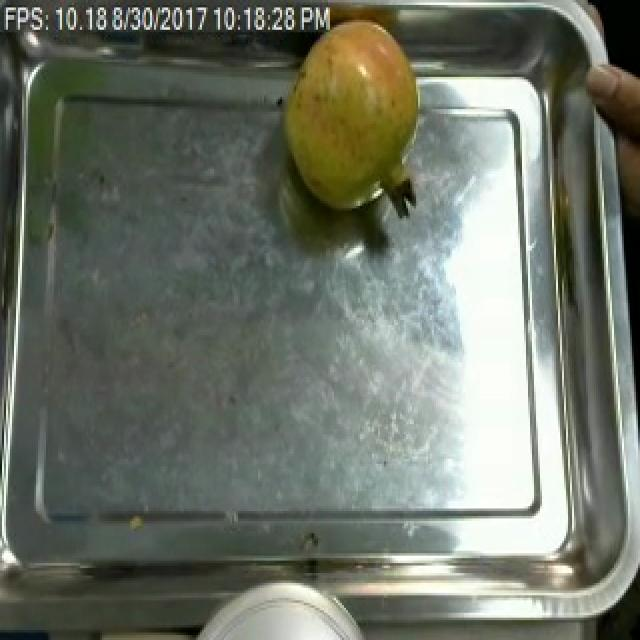fruit: (268, 10, 428, 223), (174, 585, 376, 640)
